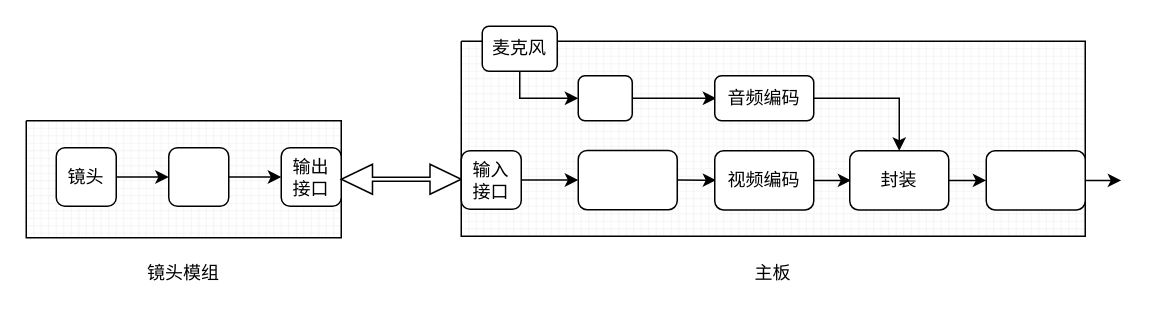
Image size: 1160x321. Some labels were removed from this diagram. Here are the shapes that lost their labels. From the top down, the centre of each, then its label:
At point (604, 97): "DAC".
At point (198, 176): "Sensor".
At point (627, 179): "ISP 处理".
At point (1035, 179): "存储/传输".
